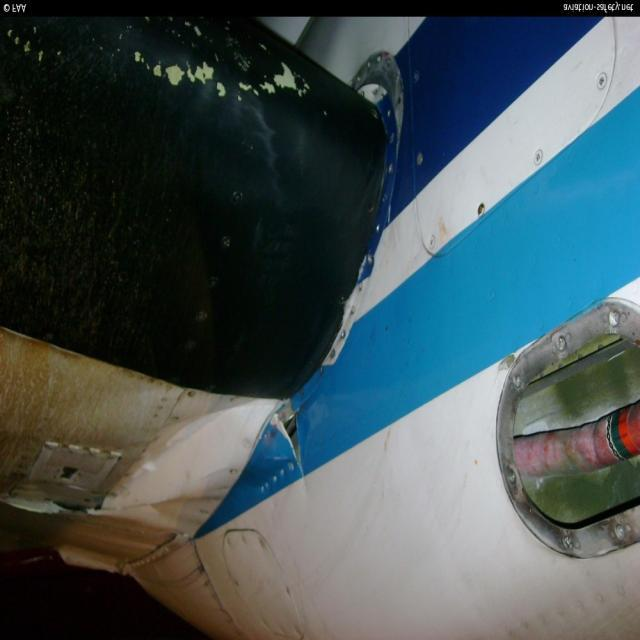crack: (268, 408, 309, 466)
